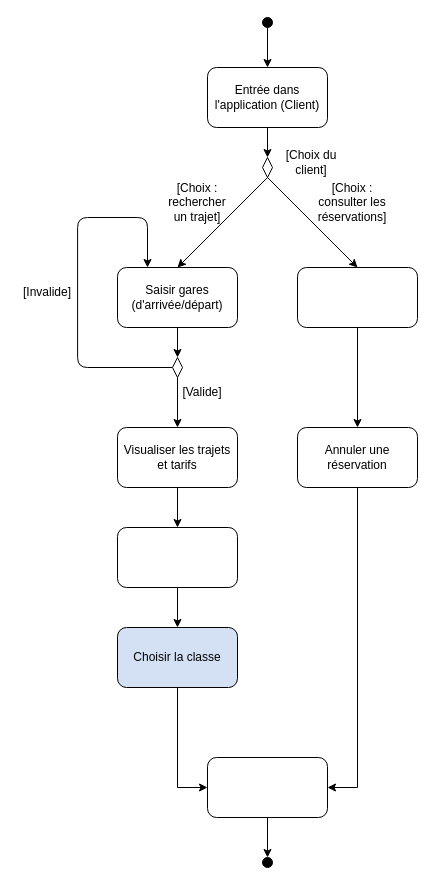
This 435x885 diagram has some shape labels left out. The shapes that lost their labels are listed below. From the top down, each one's centre as x and y in pixels, then its label:
(x=357, y=297): Sélectionner une réservation
(x=177, y=557): Réserver un trajet
(x=267, y=787): Confirmer l'opération
